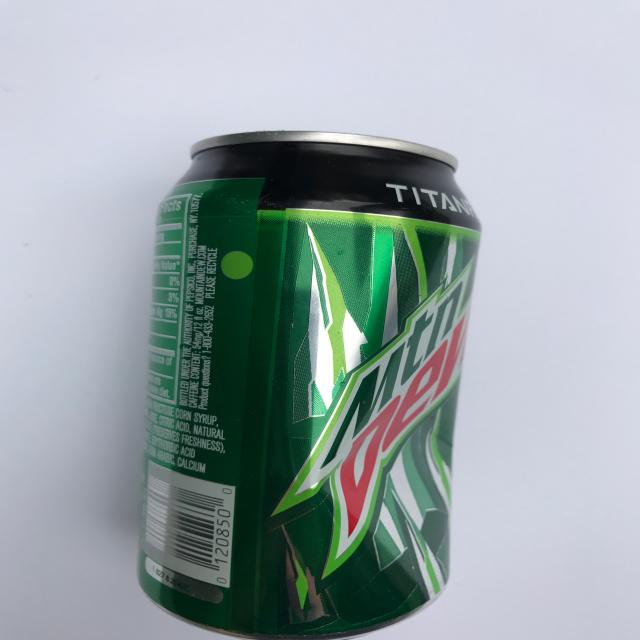metal: (136, 129, 482, 640)
